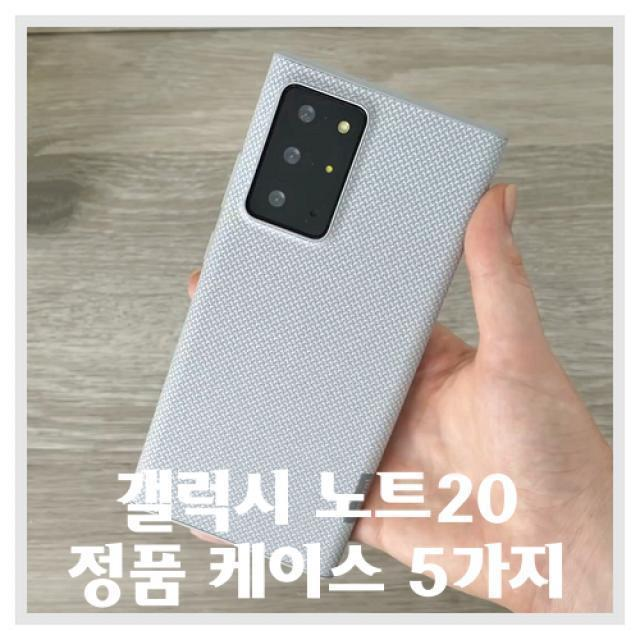Mobile: (129, 52, 509, 585)
